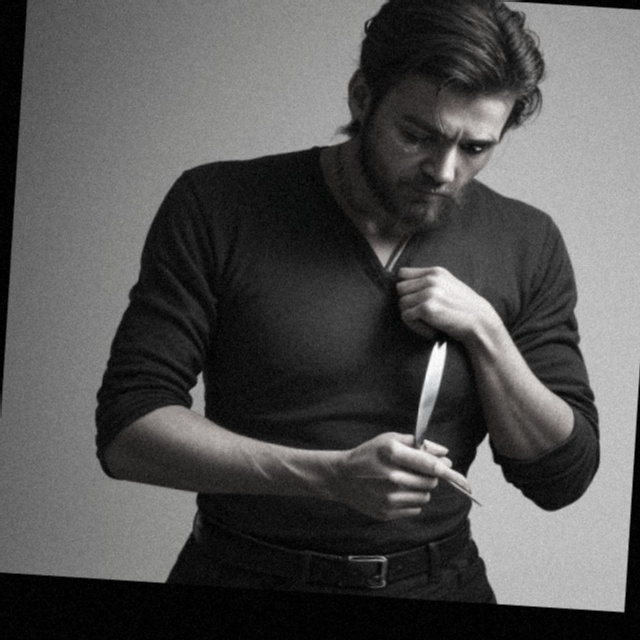Sharp-Object: (385, 334, 466, 465)
